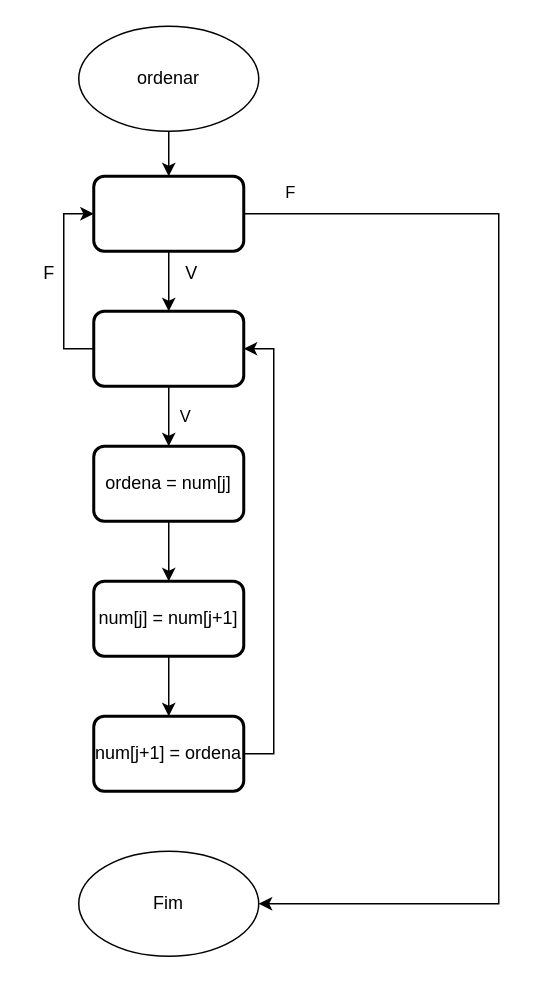
The diagram is 537 pixels wide and 983 high, and some of its shapes have lost their labels. Each missing label, with the centre of its shape:
"i=0; i<8; i++" goes at point 168,213.
"j=0; j<7; j++" goes at point 168,348.
